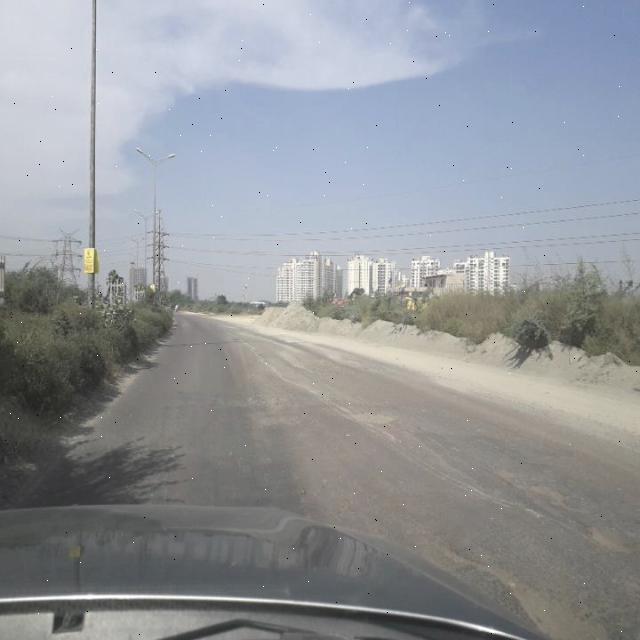D00: (252, 345, 482, 489)
D40: (442, 548, 610, 634), (492, 461, 582, 511), (290, 340, 380, 390), (212, 380, 313, 410), (582, 521, 638, 559), (350, 396, 406, 432)
